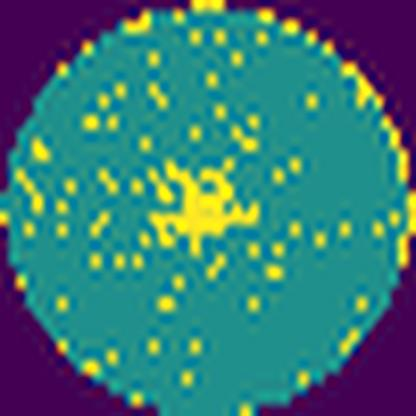Center: (146, 157, 258, 252)
